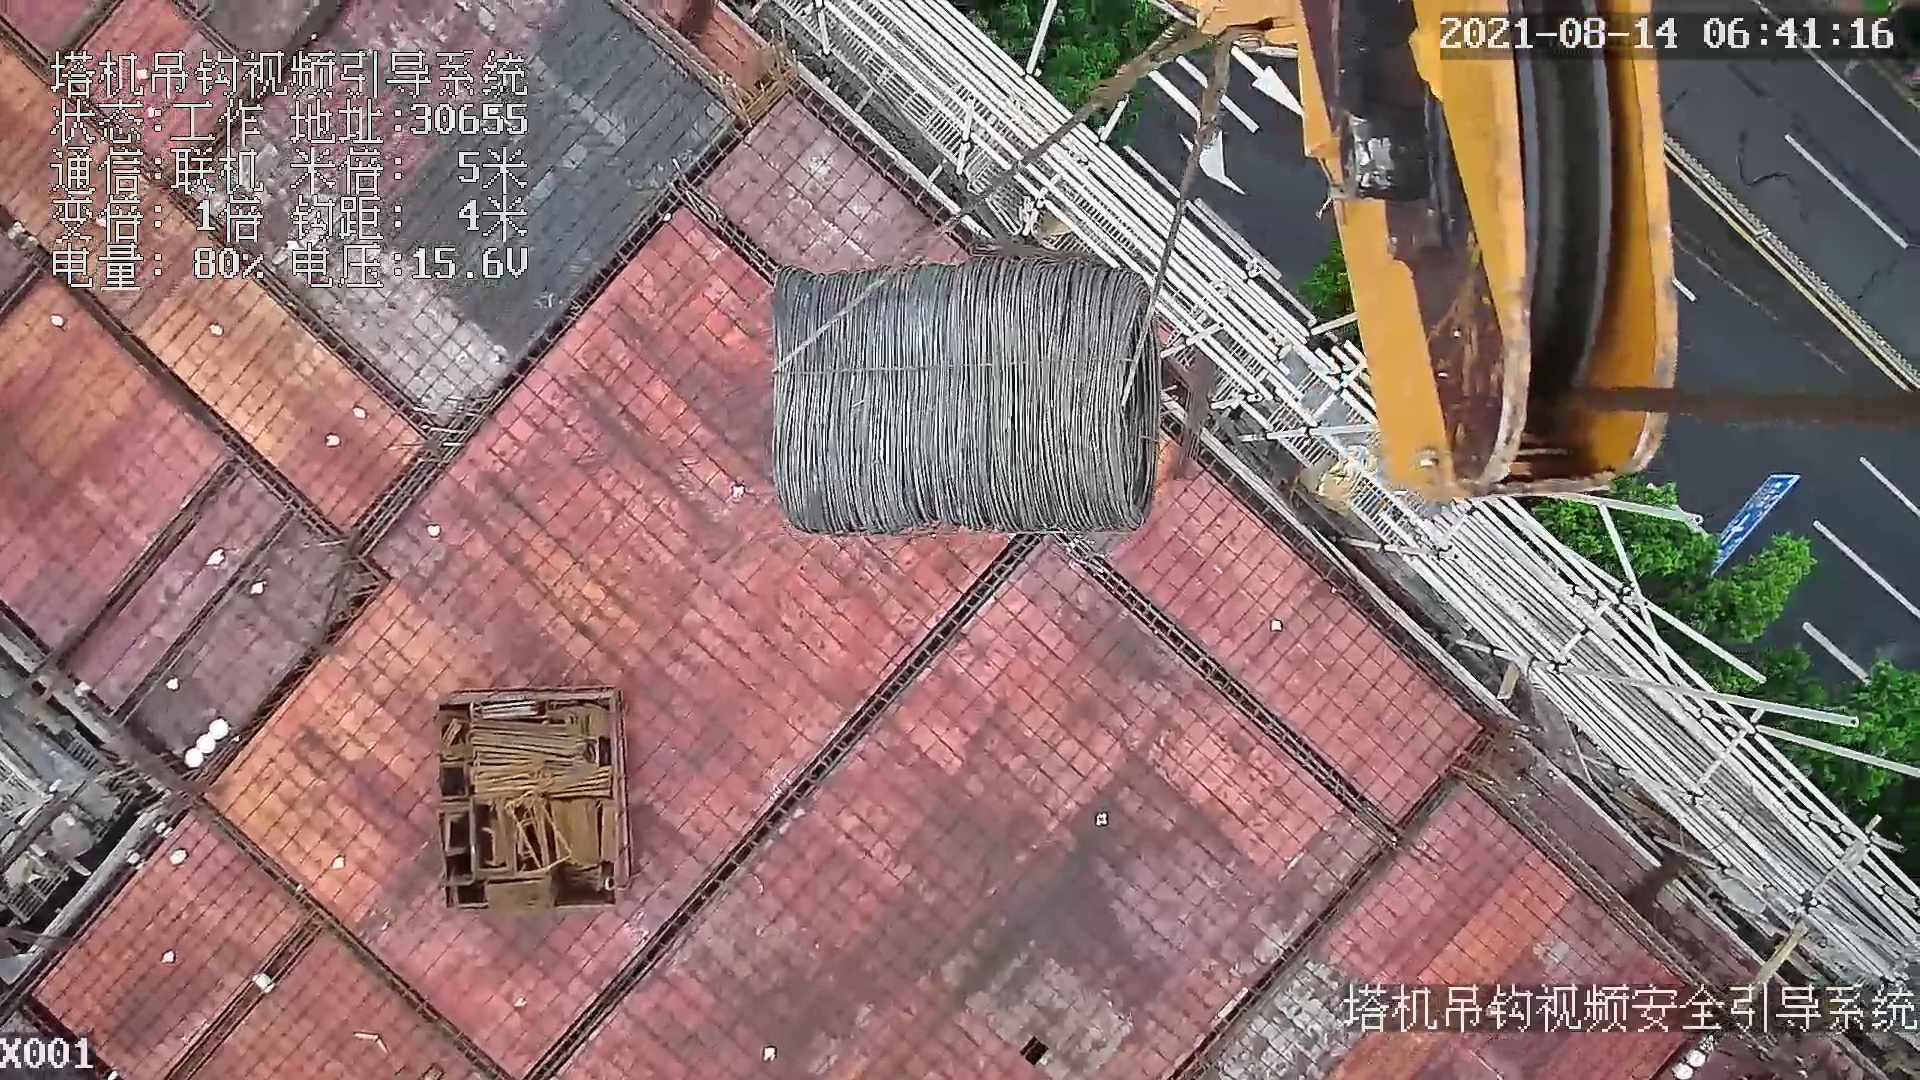hook: (1168, 1, 1702, 492)
